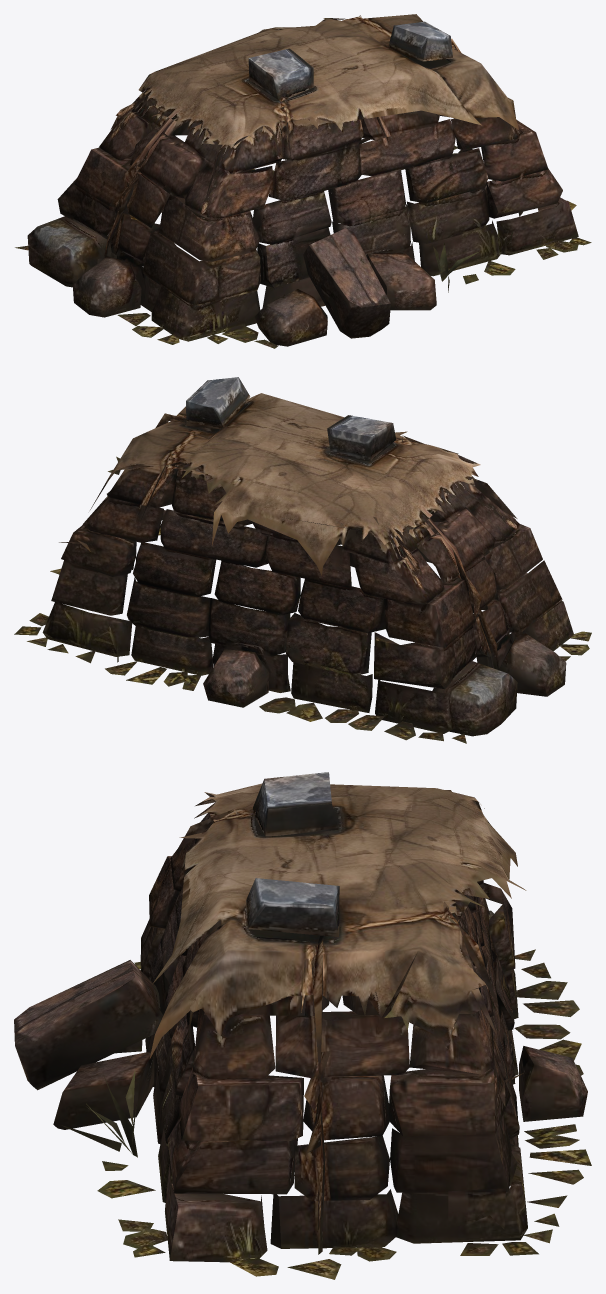
Rendered from act1_kit_v1_peat_stack.glb.
3 renders of one model, top to bottom at view 1: azimuth 30°, elevation 25°; view 2: azimuth 150°, elevation 25°; view 3: azimuth 270°, elevation 25°, orthographic. The views are drawn at different scales.
Visible parts, largest first — view 1: A21_3_peat_stack; view 2: A21_3_peat_stack; view 3: A21_3_peat_stack.
Part boxes in pixels (x1=…): A21_3_peat_stack: x1=15, y1=14, x2=591, y2=348; A21_3_peat_stack: x1=14, y1=377, x2=591, y2=743; A21_3_peat_stack: x1=14, y1=772, x2=591, y2=1279.
Size of the model in its own units: 0.9951 by 0.4111 by 0.7206.
Materials: 1 (1 with a texture image).
